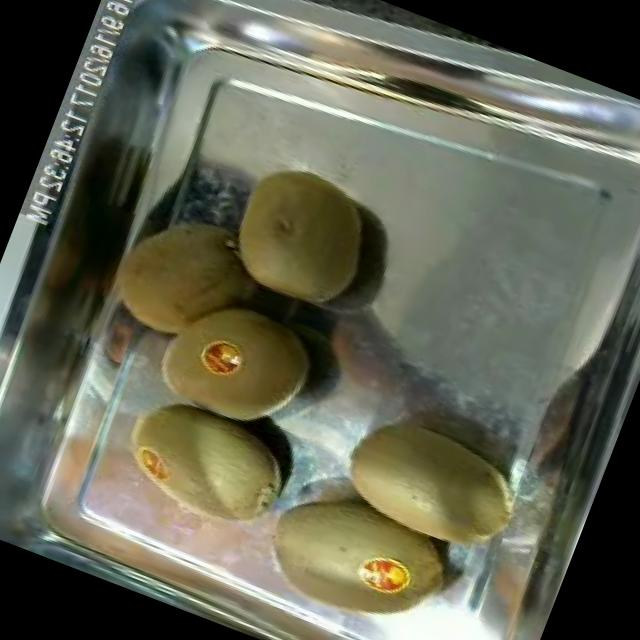Fruit: (320, 386, 549, 571), (88, 170, 290, 372), (92, 384, 312, 558), (200, 142, 394, 331), (140, 268, 338, 446)
